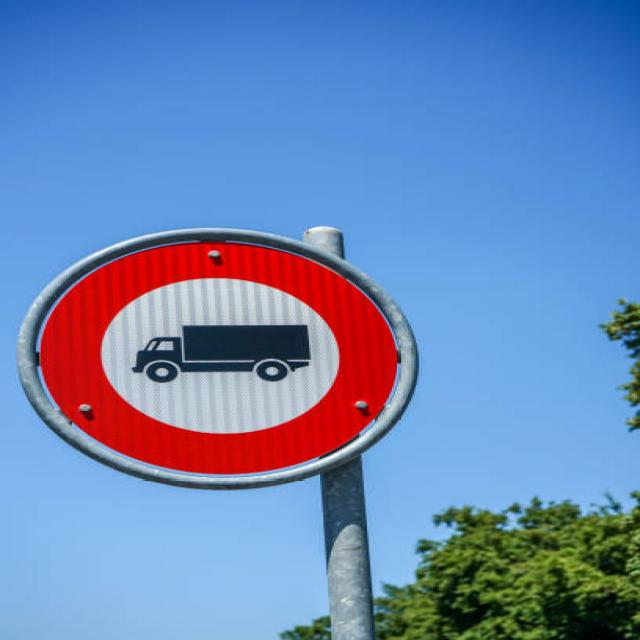do_not_enter: (0, 217, 410, 490)
